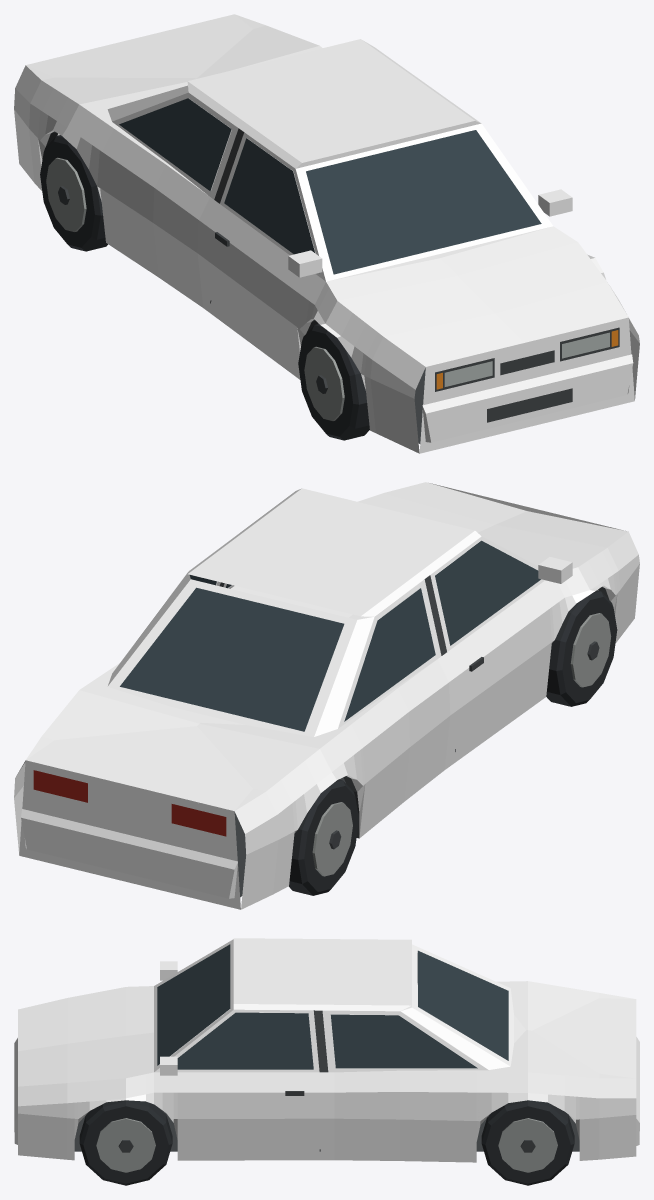
The model's file is castellani_zefiro.glb.
3 renders of one model, top to bottom at view 1: azimuth 30°, elevation 25°; view 2: azimuth 150°, elevation 25°; view 3: azimuth 270°, elevation 25°, orthographic. The views are drawn at different scales.
Parts seen in each view (by area): view 1: castellani_zefiro; view 2: castellani_zefiro; view 3: castellani_zefiro.
Part boxes in pixels (bbox=[...]): castellani_zefiro: bbox=[14, 14, 639, 453]; castellani_zefiro: bbox=[14, 482, 639, 909]; castellani_zefiro: bbox=[14, 938, 639, 1185].
Size of the model in its own units: 1.69 by 1.25 by 4.28.
8 materials, 1 textured.
